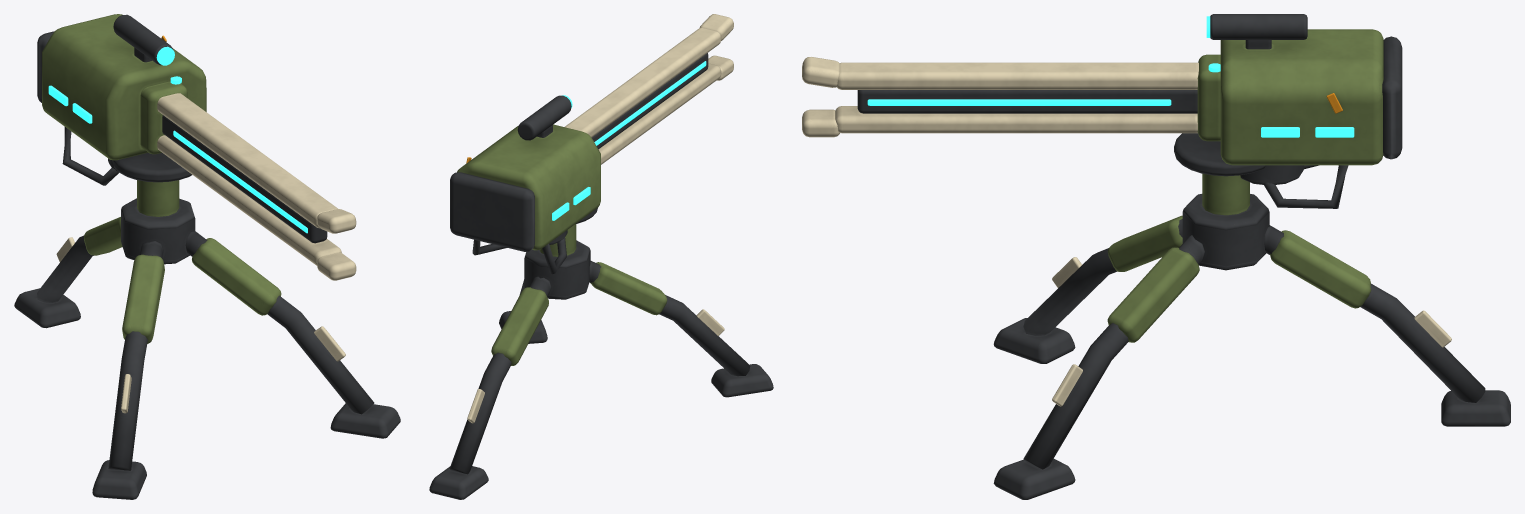
File: needle_frontier_olive.glb
The picture shows the model from 3 angles, left to right: view 1: azimuth 30°, elevation 25°; view 2: azimuth 150°, elevation 25°; view 3: azimuth 270°, elevation 25°; orthographic projection. The views are drawn at different scales.
Visible parts, largest first — view 1: Needle_Head, Needle_Base; view 2: Needle_Head, Needle_Base; view 3: Needle_Head, Needle_Base.
Part boxes in pixels (<box>): Needle_Head: <box>37,14,356,280</box>; Needle_Base: <box>14,152,400,499</box>; Needle_Head: <box>450,14,733,274</box>; Needle_Base: <box>429,208,773,499</box>; Needle_Head: <box>802,14,1402,208</box>; Needle_Base: <box>993,133,1510,499</box>.
Size of the model in its own units: 1.84 by 2.04 by 3.26.
Materials: 5 (4 with a texture image).
